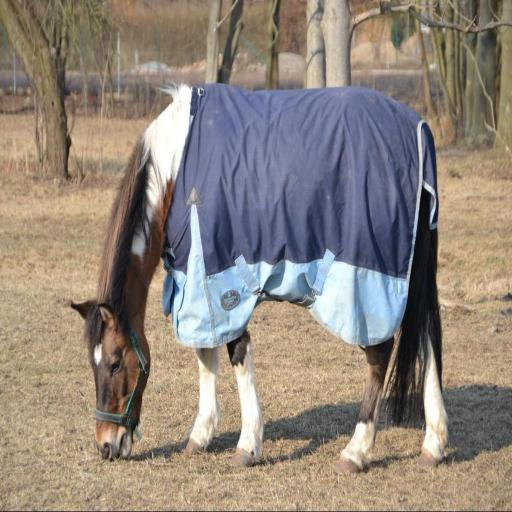horse: (68, 73, 450, 477)
